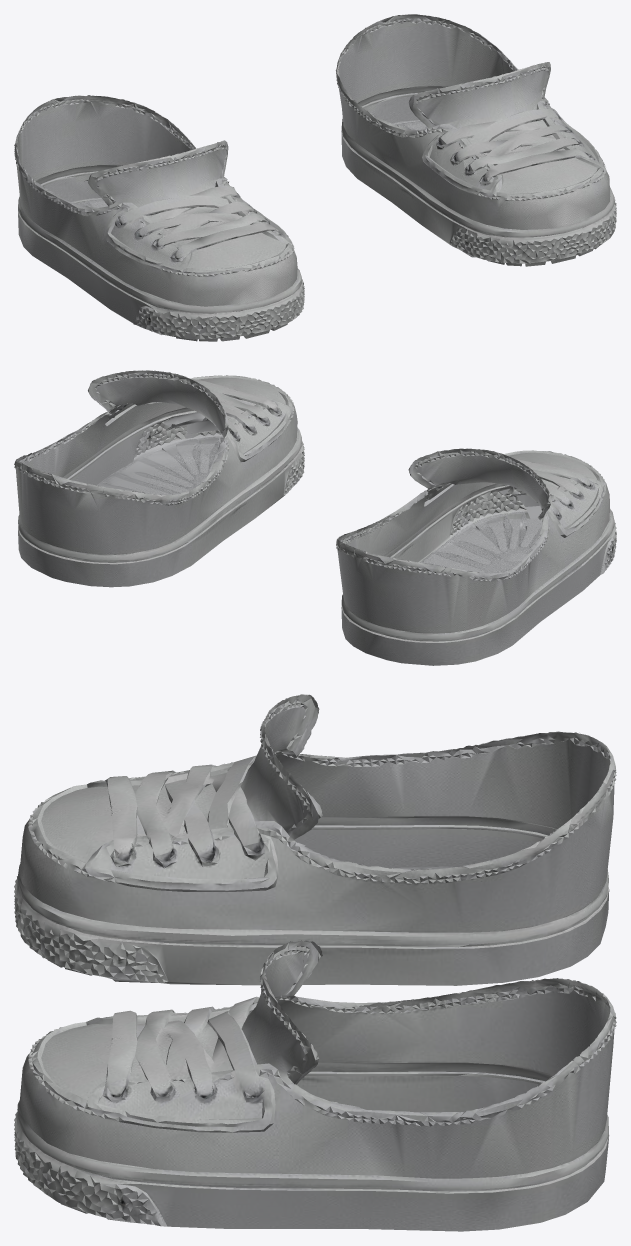
File: WhiteSneaker_owner_trim_10k.glb
The picture shows the model from 3 angles, top to bottom: view 1: azimuth 30°, elevation 25°; view 2: azimuth 150°, elevation 25°; view 3: azimuth 270°, elevation 25°; orthographic projection. The views are drawn at different scales.
Parts seen in each view (by area): view 1: WhiteSneakers; view 2: WhiteSneakers; view 3: WhiteSneakers.
Boxes of the visible parts, x1,y1,x2,y2 form: WhiteSneakers: (14, 14, 616, 341); WhiteSneakers: (14, 370, 616, 665); WhiteSneakers: (14, 694, 616, 1231).
Size of the model in its own units: 0.5411 by 0.1377 by 0.3746.
Materials: 1 (1 with a texture image).
